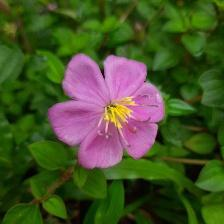malabar melastome: (48, 52, 168, 171)
